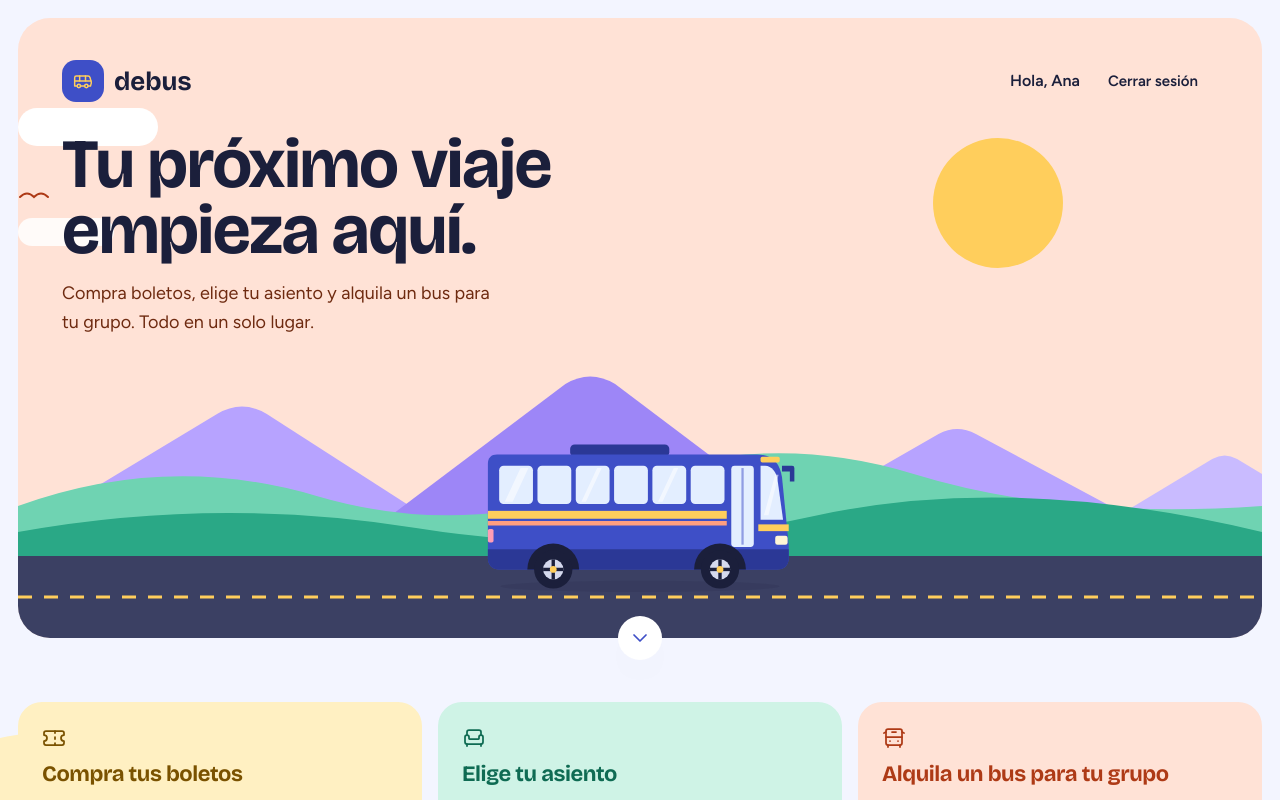
Test: HomePage › closes the session and stays on the home page
Click the button "Cerrar sesión".
click(1153, 81)  # box top-left (1088, 58), bottom-right (1218, 104)
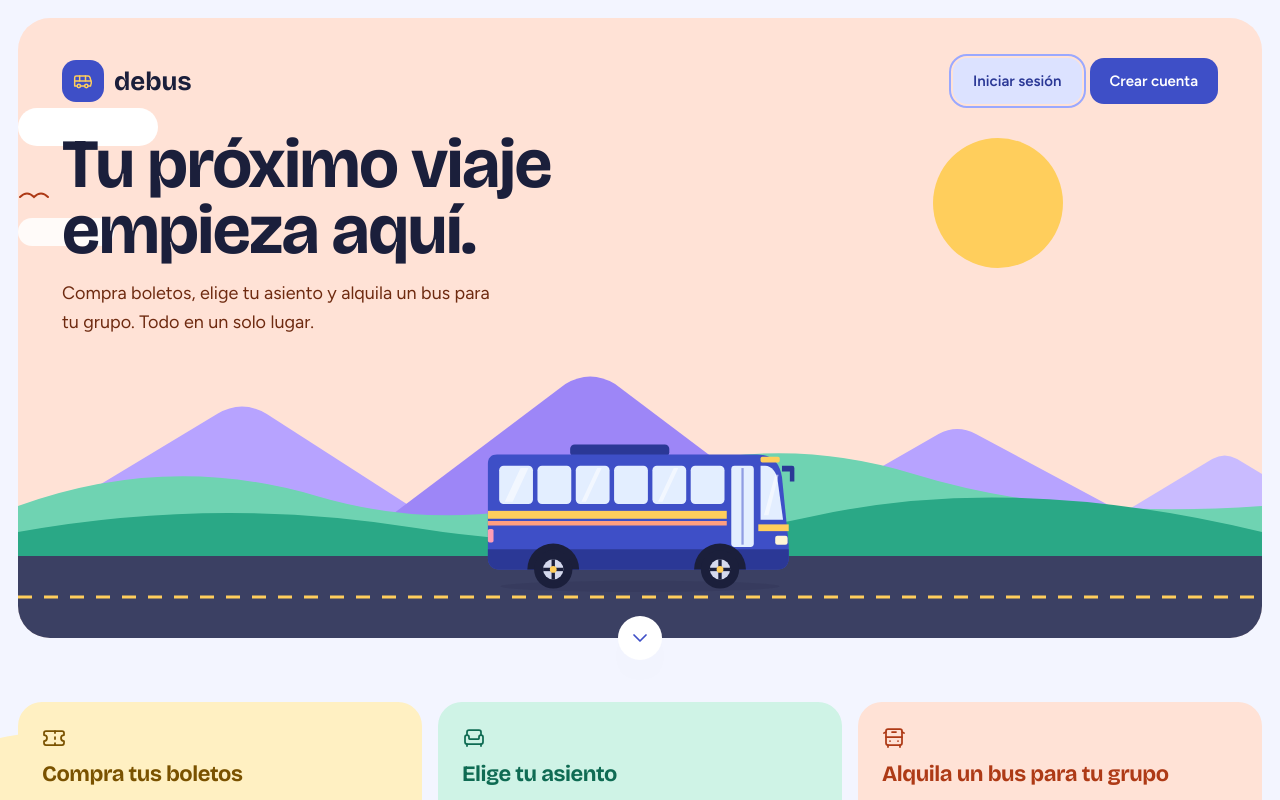
Expected: the link "Iniciar sesión" is shown, top-left (953, 58), bottom-right (1082, 104)
Expected: the link "Hola, Ana" is gone
